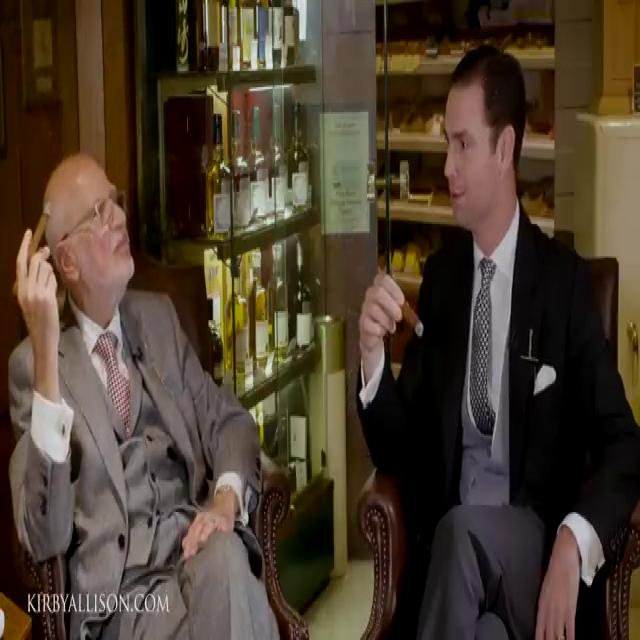Smooking: (14, 193, 64, 272), (398, 300, 431, 344)
